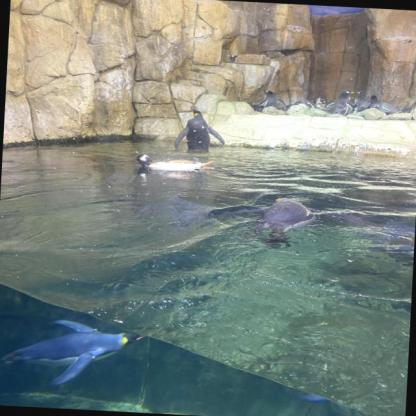penguin: (0, 316, 148, 392), (240, 195, 314, 251), (174, 102, 227, 153), (135, 154, 215, 178), (324, 89, 355, 118), (257, 90, 286, 114), (362, 94, 380, 116), (376, 101, 396, 116), (290, 98, 313, 111), (404, 93, 416, 116), (314, 96, 327, 110)
